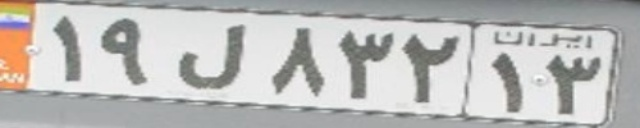1: (52, 15, 83, 83), (490, 51, 523, 114)
2: (401, 33, 458, 104)
3: (338, 31, 394, 99), (546, 54, 603, 114)
8: (271, 27, 325, 98)
9: (100, 17, 146, 84)
lam: (177, 23, 242, 89)
